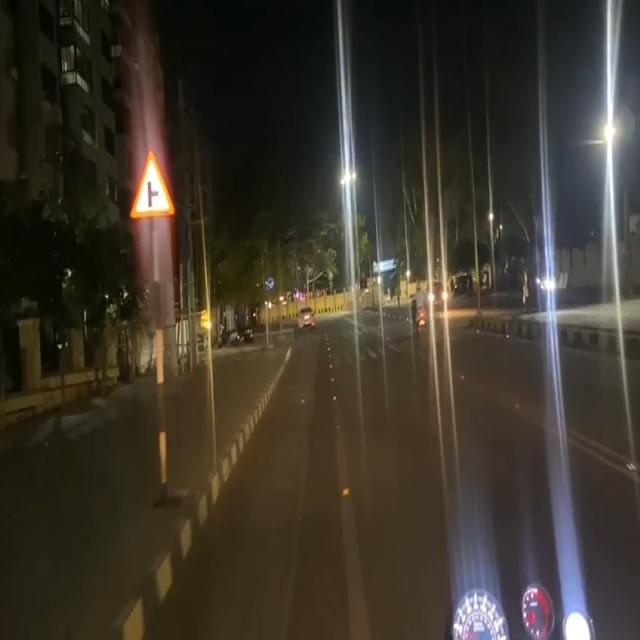bien_nguy_hiem: (130, 147, 175, 218)
